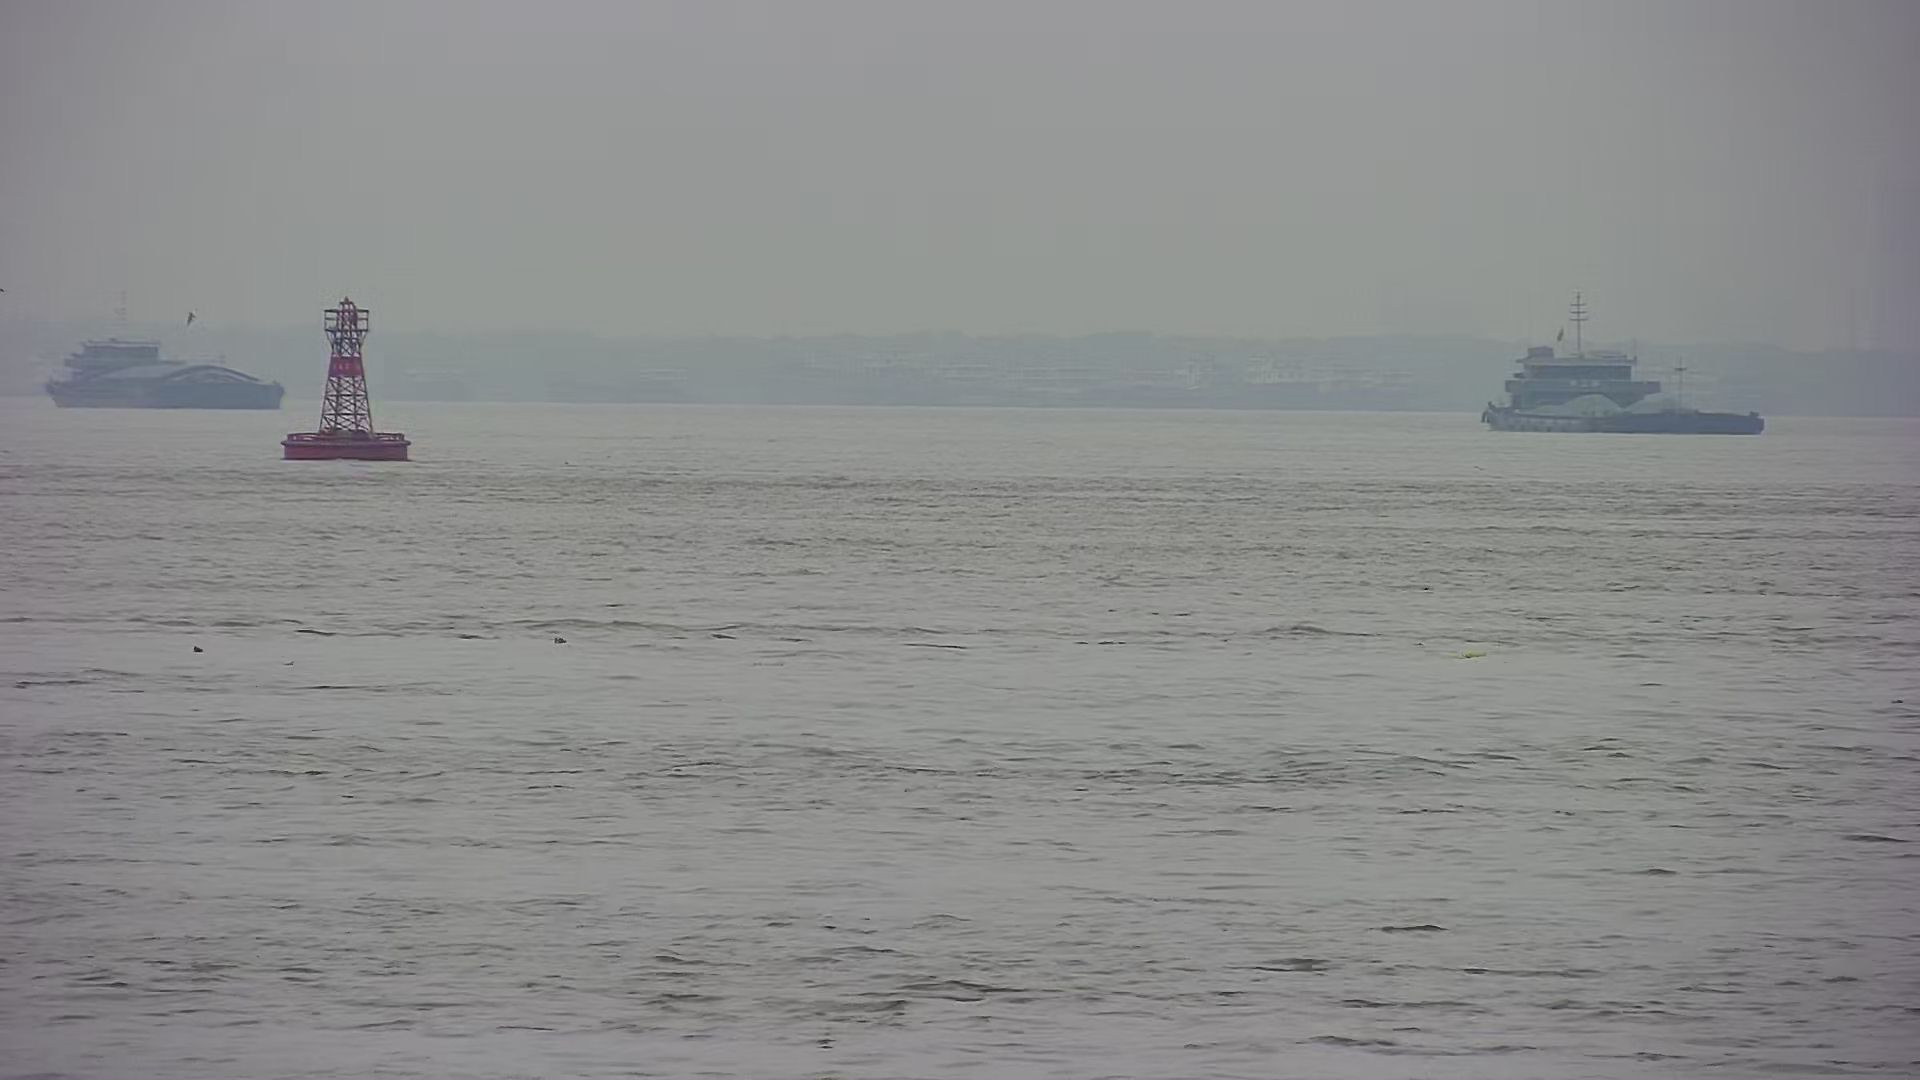boat: (1470, 293, 1774, 450), (40, 328, 295, 419)
buoy: (272, 294, 417, 465)
